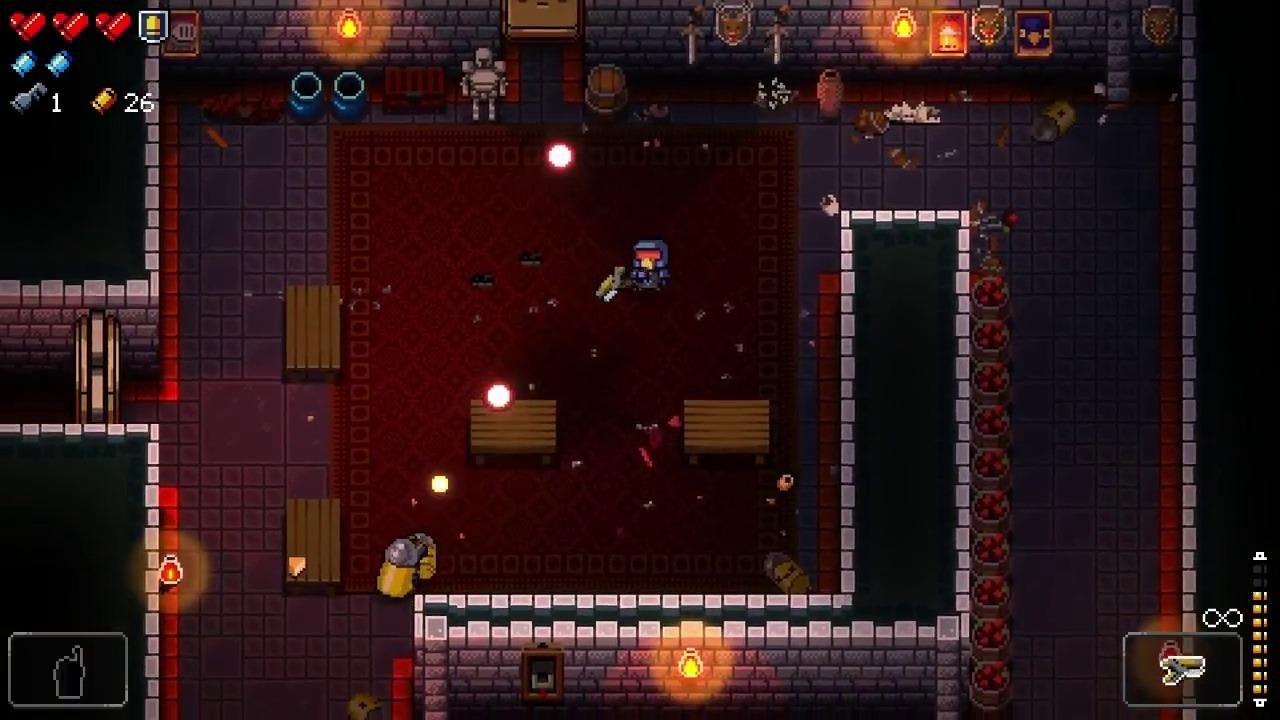bullet: (484, 381, 515, 412), (546, 142, 575, 170)
bullet_kin: (375, 537, 418, 602)
dead_bullet_kin: (763, 550, 814, 594), (1030, 97, 1076, 144)
locked_door: (74, 307, 119, 424)
player: (630, 236, 670, 292)
table: (470, 399, 557, 466), (684, 399, 769, 464), (285, 285, 341, 380), (286, 498, 340, 595)
